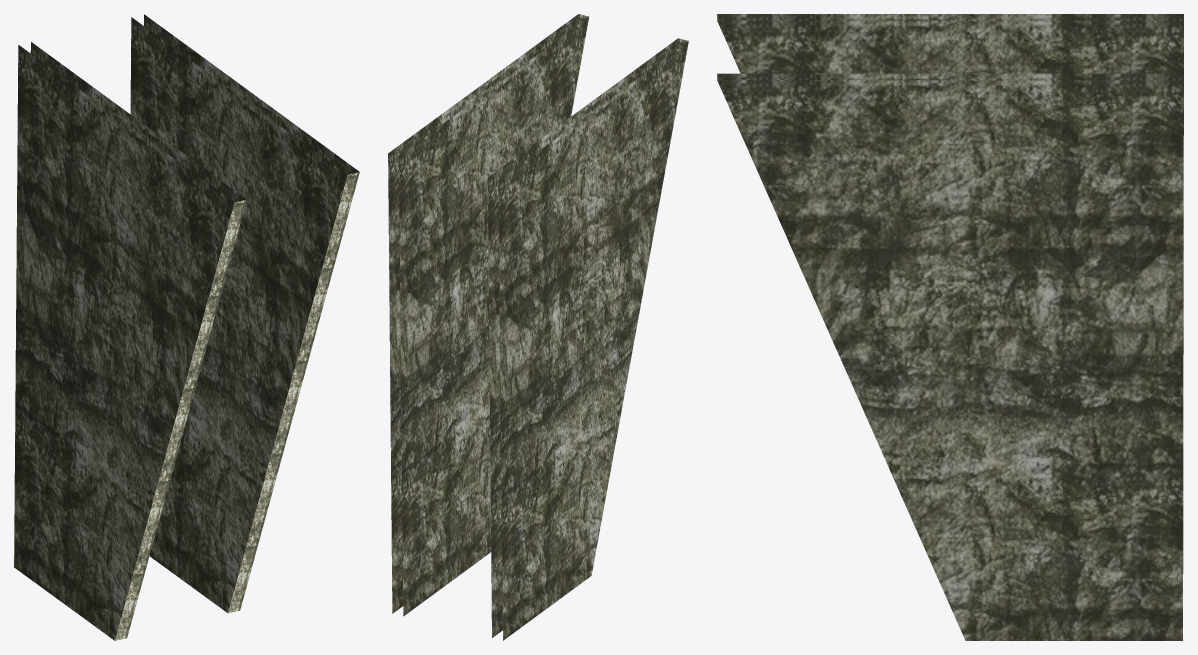
3 renders of one model, left to right at view 1: azimuth 30°, elevation 25°; view 2: azimuth 150°, elevation 25°; view 3: azimuth 270°, elevation 25°, orthographic. The views are drawn at different scales.
Visible parts, largest first — view 1: Object23; view 2: Object23; view 3: Object23.
Part boxes in pixels (x1=…): Object23: x1=14, y1=14, x2=359, y2=640; Object23: x1=388, y1=14, x2=688, y2=640; Object23: x1=717, y1=14, x2=1183, y2=640.
Bounding box in the file's own units: 52.19 × 200 × 150.
